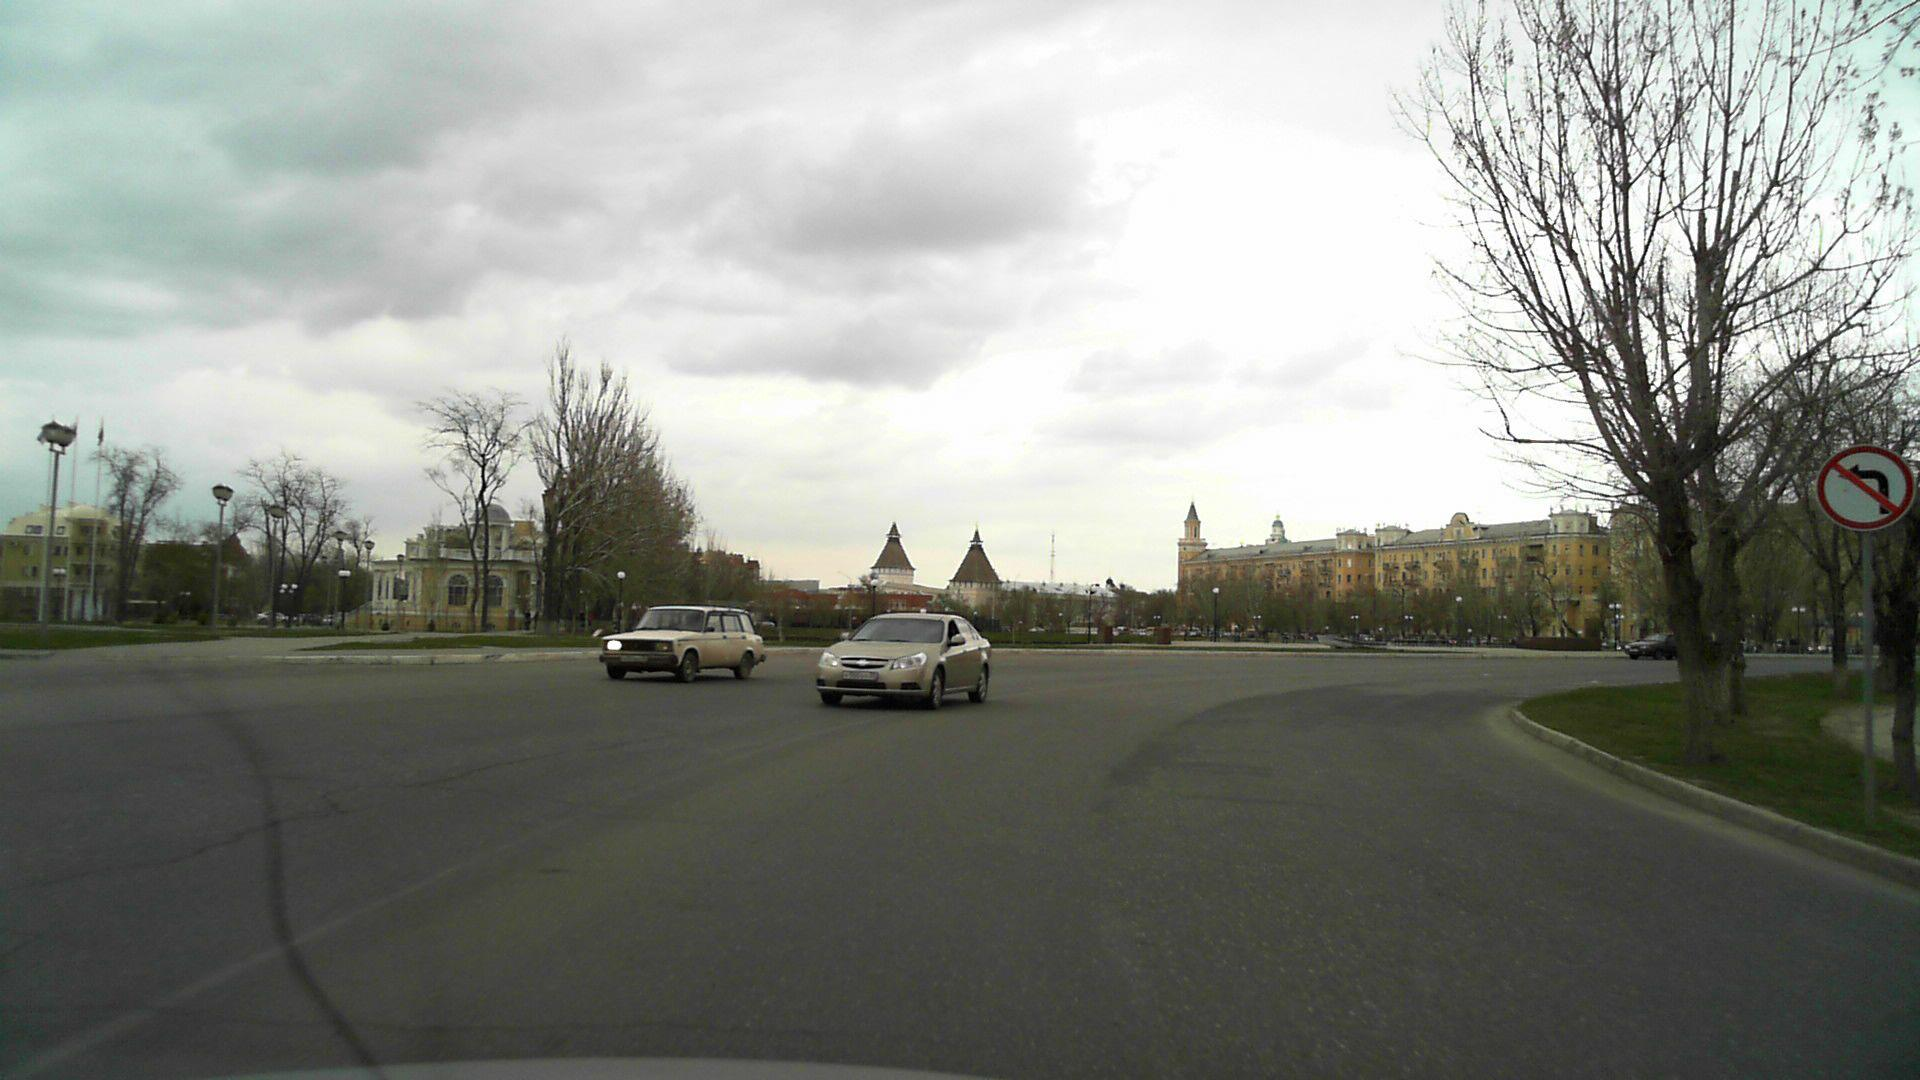3_18_2: (1807, 440, 1917, 538)
